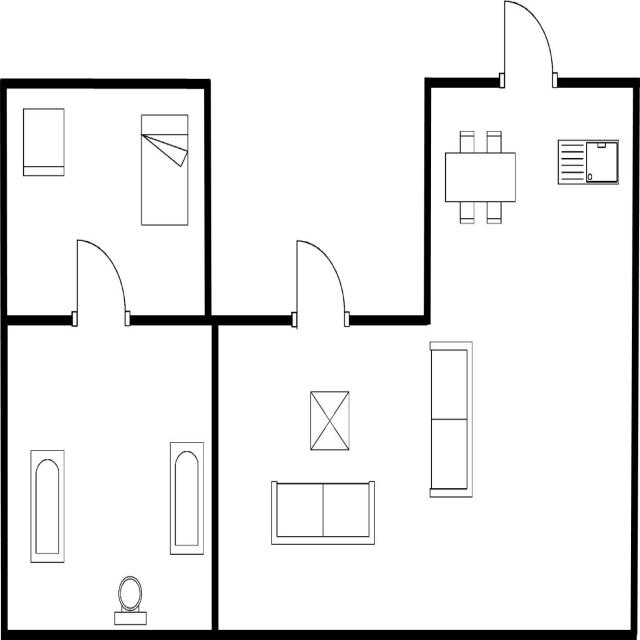bed: (138, 110, 191, 230)
coffee_table: (306, 384, 352, 454)
dining_table: (441, 125, 518, 229)
large_sink: (112, 571, 148, 628)
large_sofa: (268, 475, 378, 550), (427, 335, 475, 502)
sink: (554, 134, 622, 189)
small_sofa: (20, 103, 67, 179)
tub: (28, 446, 68, 567), (168, 437, 205, 559)
